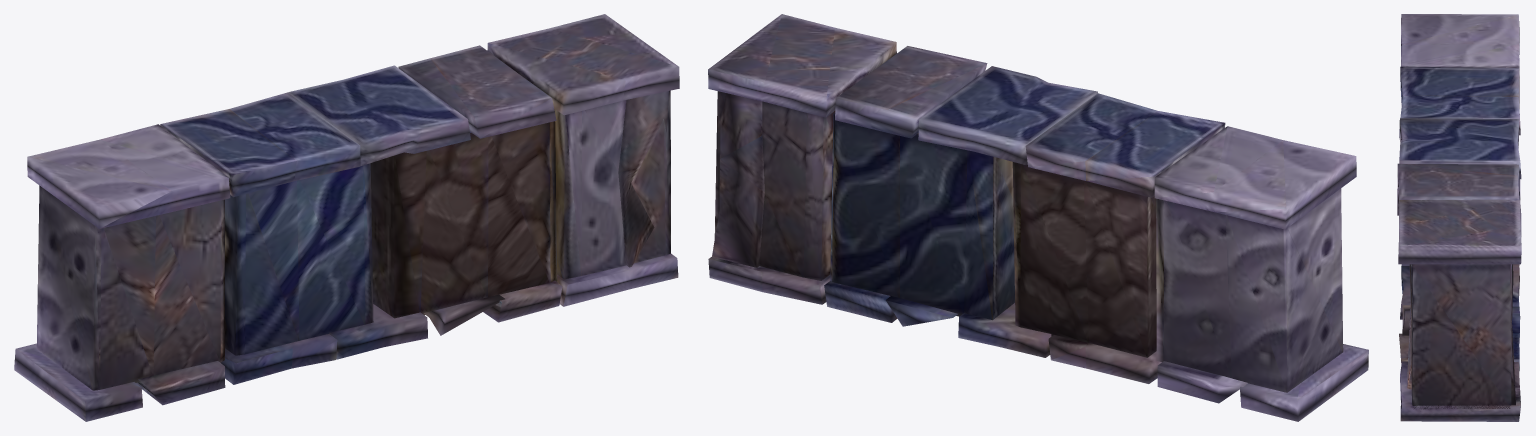
File: cp_muro_inteiro.glb
3 views of the same model, side by side, from view 1: azimuth 30°, elevation 25°; view 2: azimuth 150°, elevation 25°; view 3: azimuth 270°, elevation 25° (orthographic). The views are drawn at different scales.
Visible parts, largest first — view 1: Mesh_0.016; view 2: Mesh_0.016; view 3: Mesh_0.016.
Boxes of the visible parts, left/top/right/bottom form: Mesh_0.016: left=14, top=14, right=679, bottom=421; Mesh_0.016: left=708, top=14, right=1368, bottom=421; Mesh_0.016: left=1397, top=14, right=1521, bottom=421.
Bounding box in the file's own units: 0.4106 × 0.1416 × 0.0906.
1 material, 1 textured.
